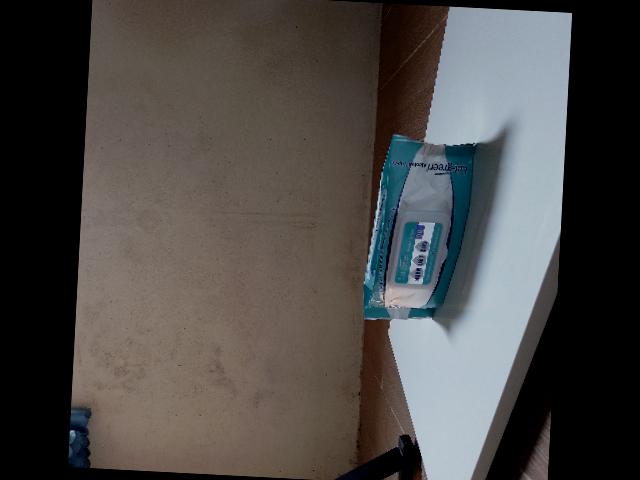Let-green_alcohol_wipes: (364, 133, 478, 319)
